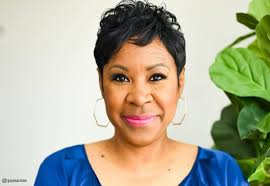person: (93, 4, 186, 149)
